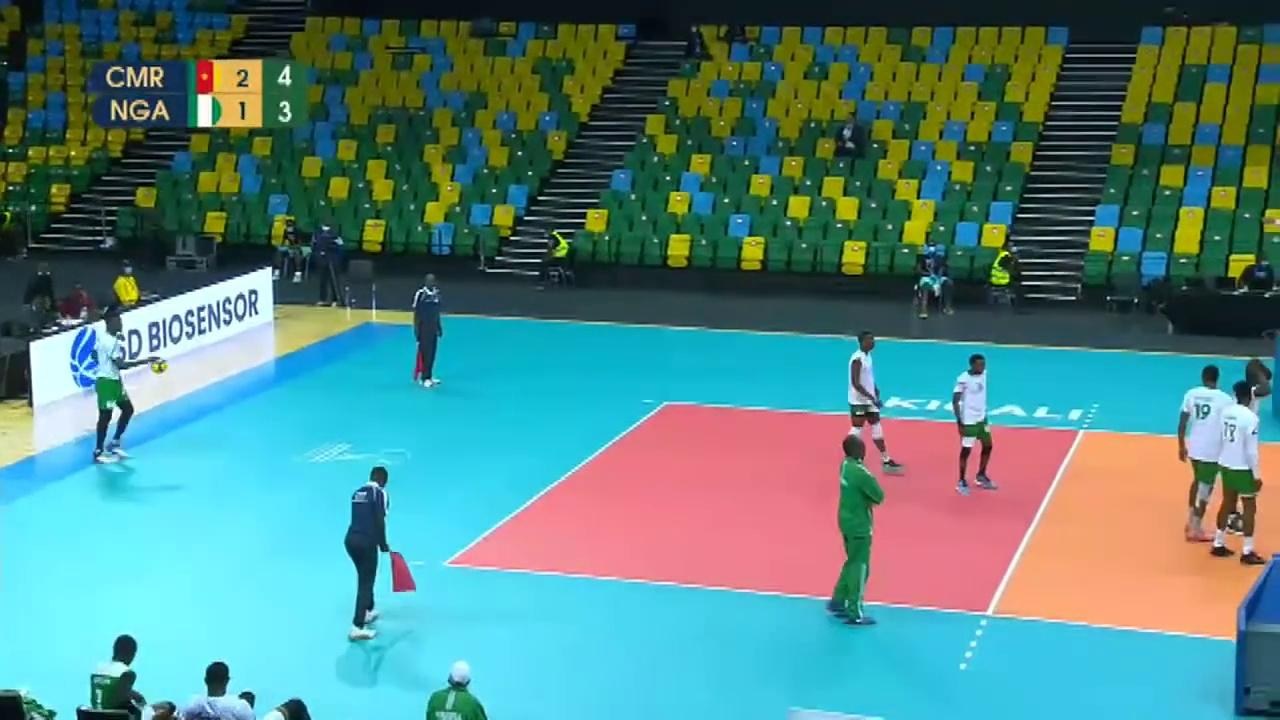player: (1210, 384, 1275, 569), (1169, 358, 1223, 547), (1221, 357, 1276, 536), (76, 318, 135, 462), (847, 337, 898, 473), (951, 355, 995, 490)
refree: (341, 471, 413, 633), (409, 272, 444, 390)
